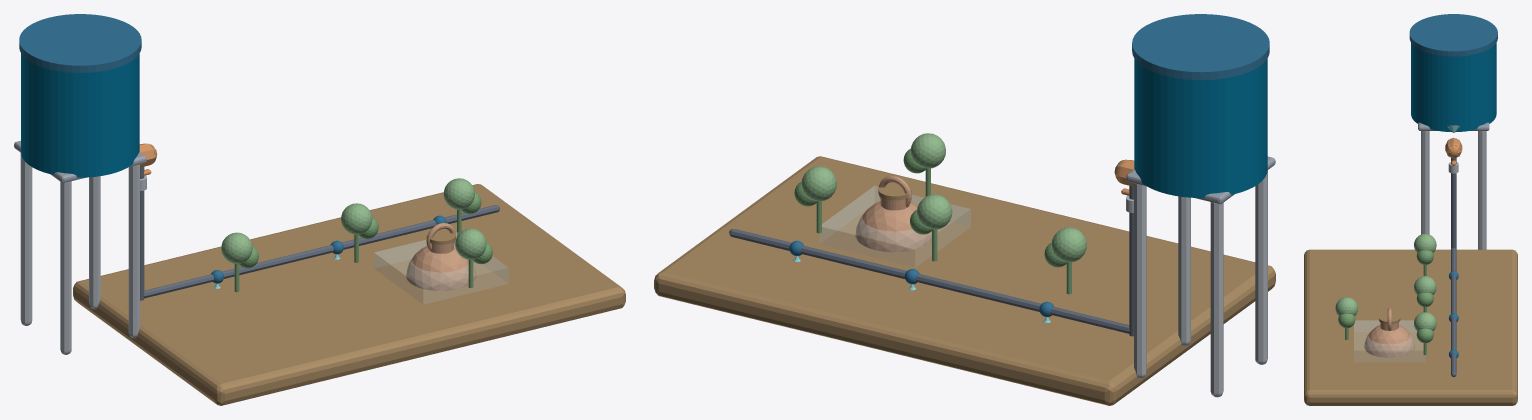
3 renders of one model, left to right at view 1: azimuth 30°, elevation 25°; view 2: azimuth 150°, elevation 25°; view 3: azimuth 270°, elevation 25°, orthographic. The views are drawn at different scales.
Visible parts, largest first — view 1: suelo, part_deposito_elevado, part_planta, deco_vidrio_suelo, part_manguera, part_olla; view 2: suelo, part_deposito_elevado, part_planta, deco_vidrio_suelo, part_manguera, part_olla, part_gotero; view 3: suelo, part_deposito_elevado, part_planta, deco_vidrio_suelo, part_olla, part_manguera, part_filtro_malla.
Boxes of the visible parts, left/top/right/bottom form: suelo: left=73, top=184, right=625, bottom=405; part_deposito_elevado: left=14, top=14, right=146, bottom=354; part_planta: left=221, top=178, right=492, bottom=292; deco_vidrio_suelo: left=374, top=232, right=508, bottom=304; part_manguera: left=140, top=167, right=499, bottom=300; part_olla: left=406, top=223, right=476, bottom=290; suelo: left=654, top=156, right=1275, bottom=405; part_deposito_elevado: left=1126, top=14, right=1275, bottom=397; part_planta: left=794, top=133, right=1086, bottom=294; deco_vidrio_suelo: left=819, top=186, right=970, bottom=266; part_manguera: left=729, top=185, right=1133, bottom=336; part_olla: left=855, top=175, right=931, bottom=252; part_gotero: left=789, top=240, right=1054, bottom=322; suelo: left=1304, top=249, right=1517, bottom=405; part_deposito_elevado: left=1409, top=14, right=1497, bottom=249; part_planta: left=1335, top=233, right=1436, bottom=355; deco_vidrio_suelo: left=1354, top=320, right=1424, bottom=361; part_olla: left=1364, top=308, right=1414, bottom=357; part_manguera: left=1448, top=158, right=1458, bottom=376; part_filtro_malla: left=1445, top=138, right=1462, bottom=158.
Bounding box in the file's own units: 2.91 × 1.78 × 1.5.
